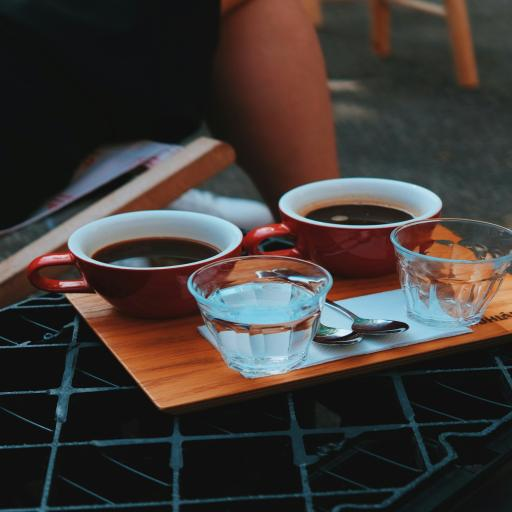phone: (27, 209, 243, 317), (245, 177, 442, 278)
